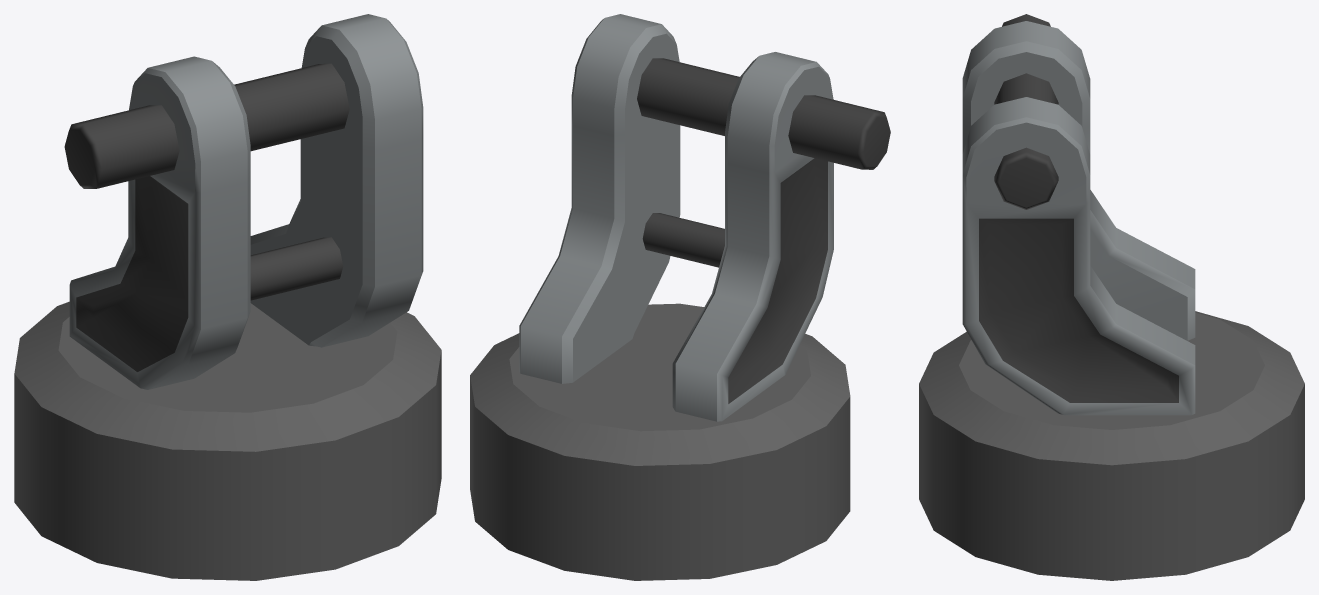
File: Turret_010_Part_01.fbx
3 renders of one model, left to right at view 1: azimuth 30°, elevation 25°; view 2: azimuth 150°, elevation 25°; view 3: azimuth 270°, elevation 25°, orthographic. The views are drawn at different scales.
Parts seen in each view (by area): view 1: Turret_010_Part_01; view 2: Turret_010_Part_01; view 3: Turret_010_Part_01.
Boxes of the visible parts, x1,y1,x2,y2 form: Turret_010_Part_01: (14,14,441,580); Turret_010_Part_01: (470,14,890,580); Turret_010_Part_01: (919,14,1304,580).
Bounding box in the file's own units: 67.06 × 65.38 × 80.44.
